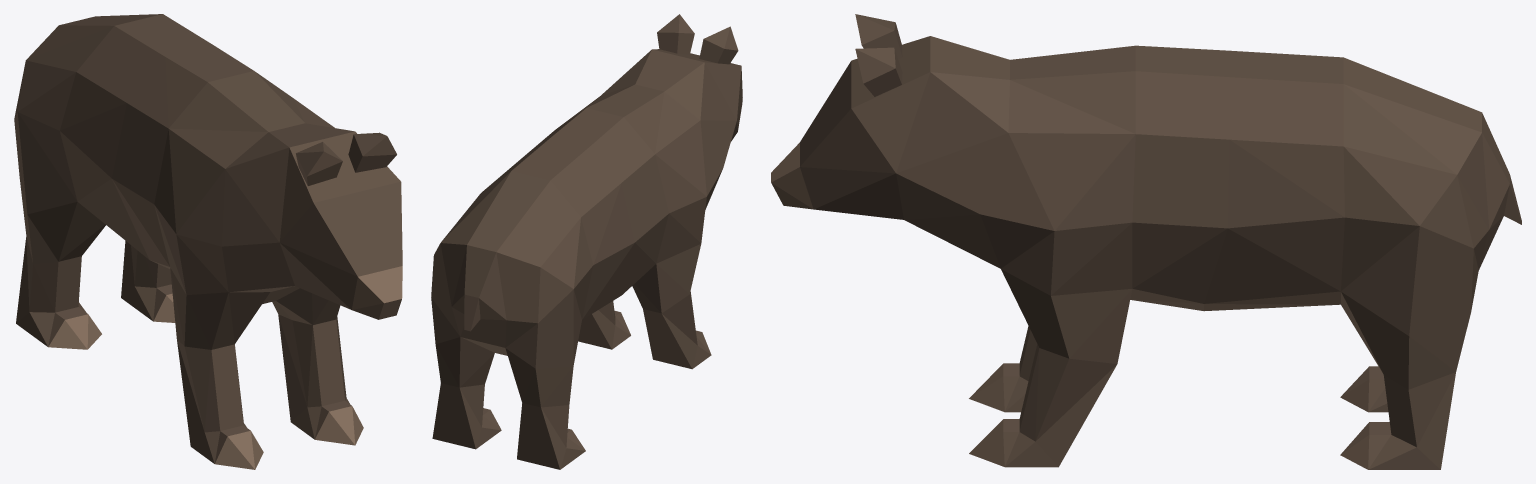
Rendered from Bear2.fbx.
The picture shows the model from 3 angles, left to right: view 1: azimuth 30°, elevation 25°; view 2: azimuth 150°, elevation 25°; view 3: azimuth 270°, elevation 25°; orthographic projection. The views are drawn at different scales.
Parts seen in each view (by area): view 1: Bear2; view 2: Bear2; view 3: Bear2.
Part boxes in pixels (left/top/right/bottom): Bear2: left=14, top=14, right=402, bottom=469; Bear2: left=431, top=14, right=742, bottom=469; Bear2: left=771, top=14, right=1521, bottom=469.
Size of the model in its own units: 72.58 by 134 by 231.
